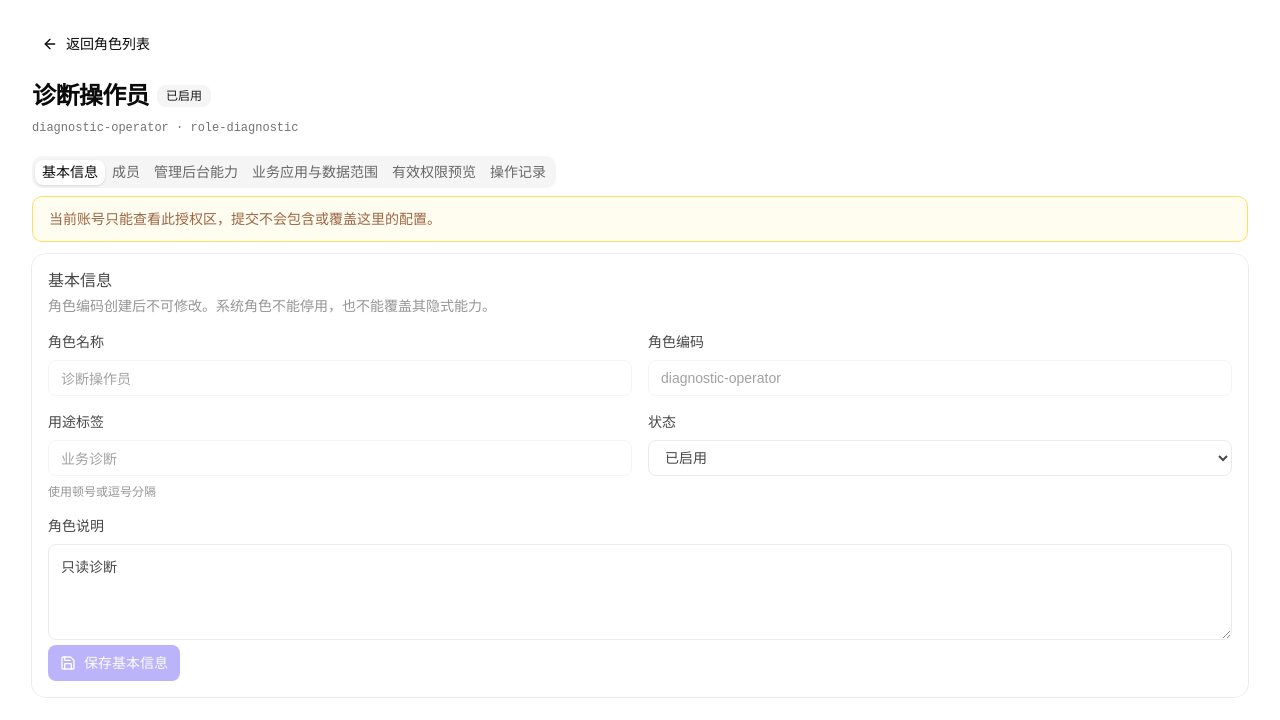
Test: 角色授权中心 › 权限模拟安全展示 application_scope_denied 决策
Expected: the heading "诊断操作员" is shown, [32,80,149,112]
Step 1. Click the tab "有效权限预览" → click(434, 172), box [385,160,483,184]
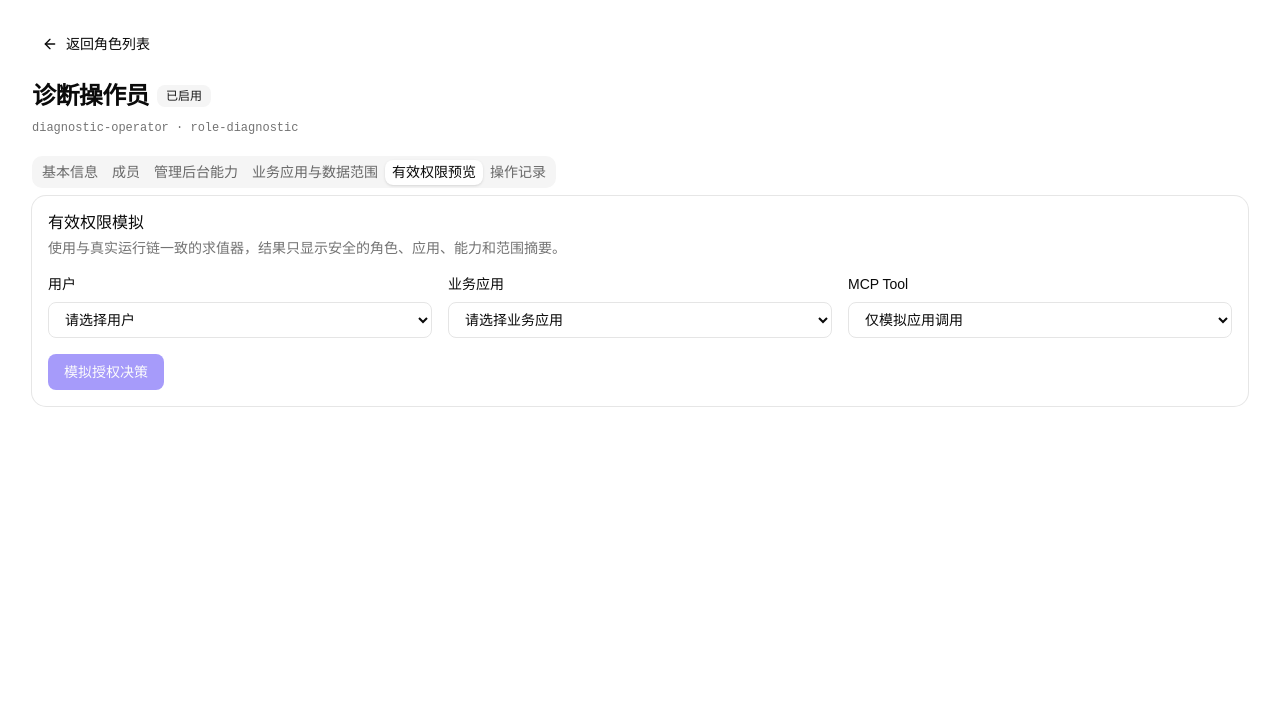
Step 2. Select "测试用户（test-user）" in the dropdown labelled "用户" → (240, 320), box [48,302,432,338]
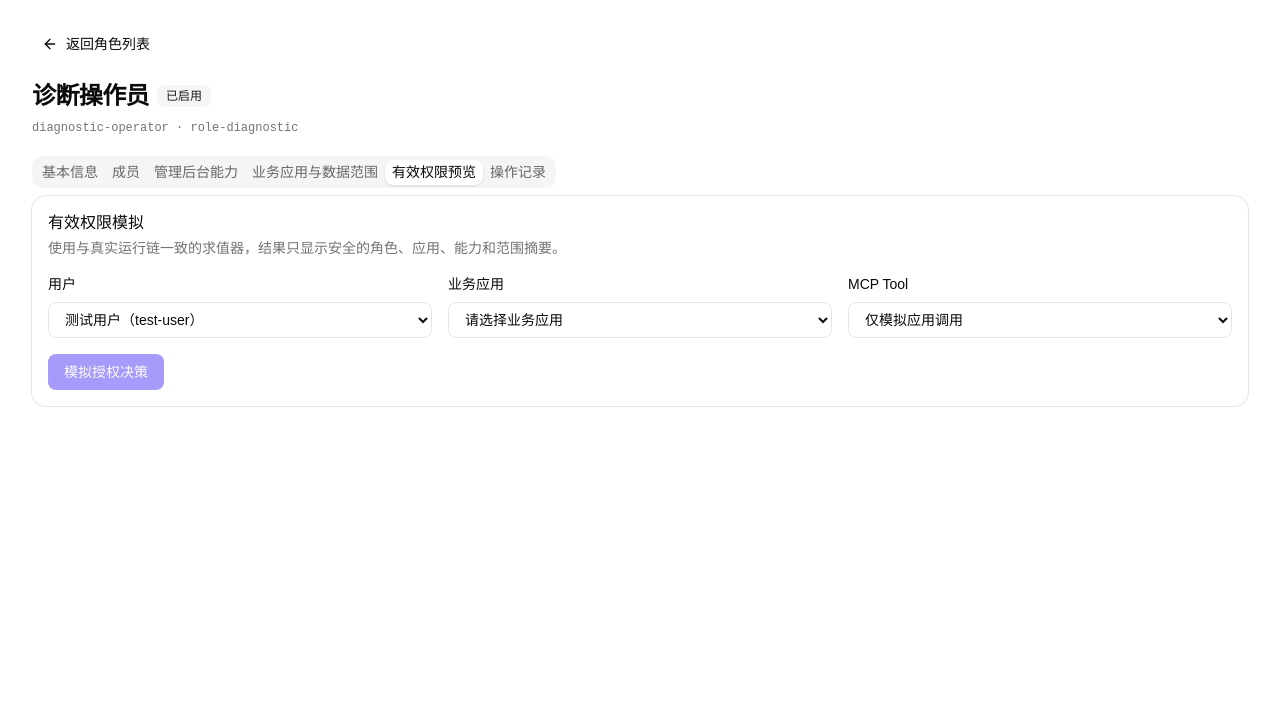
Step 3. Select "诊断应用" in the dropdown labelled "业务应用" → (640, 320), box [448,302,832,338]
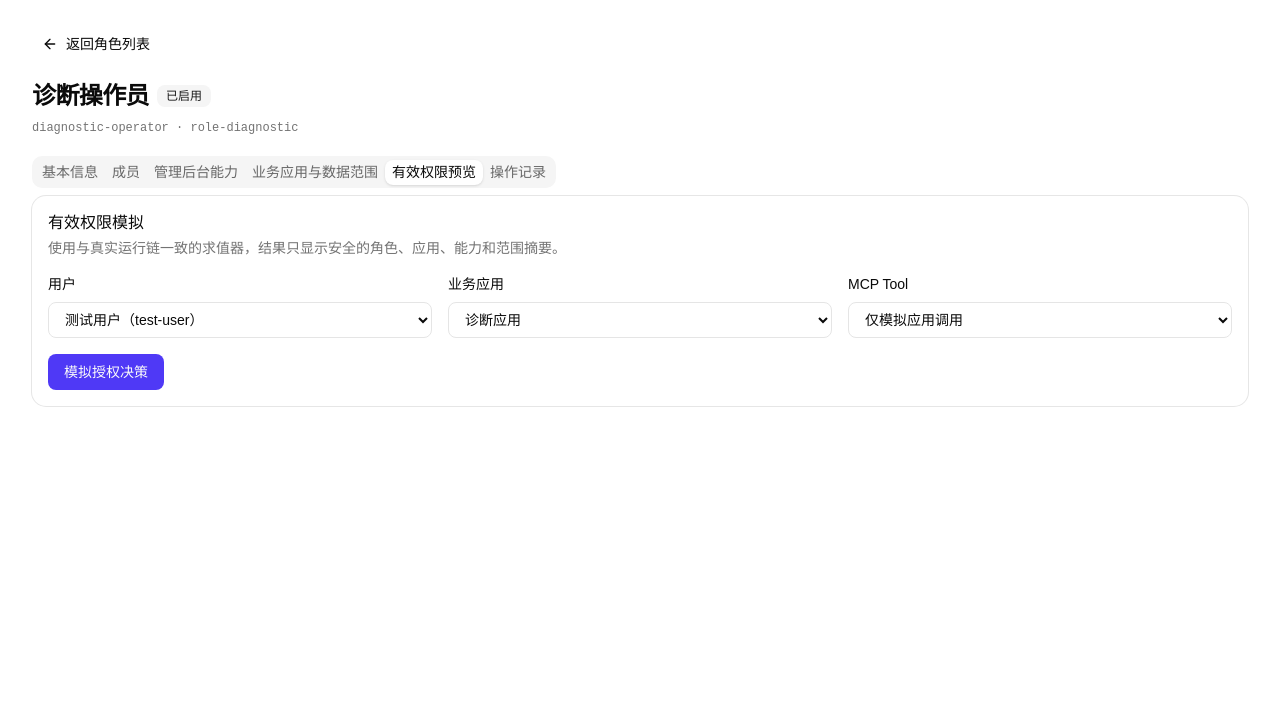
Step 4. Click the button "模拟授权决策" → click(106, 372), box [48,354,164,390]
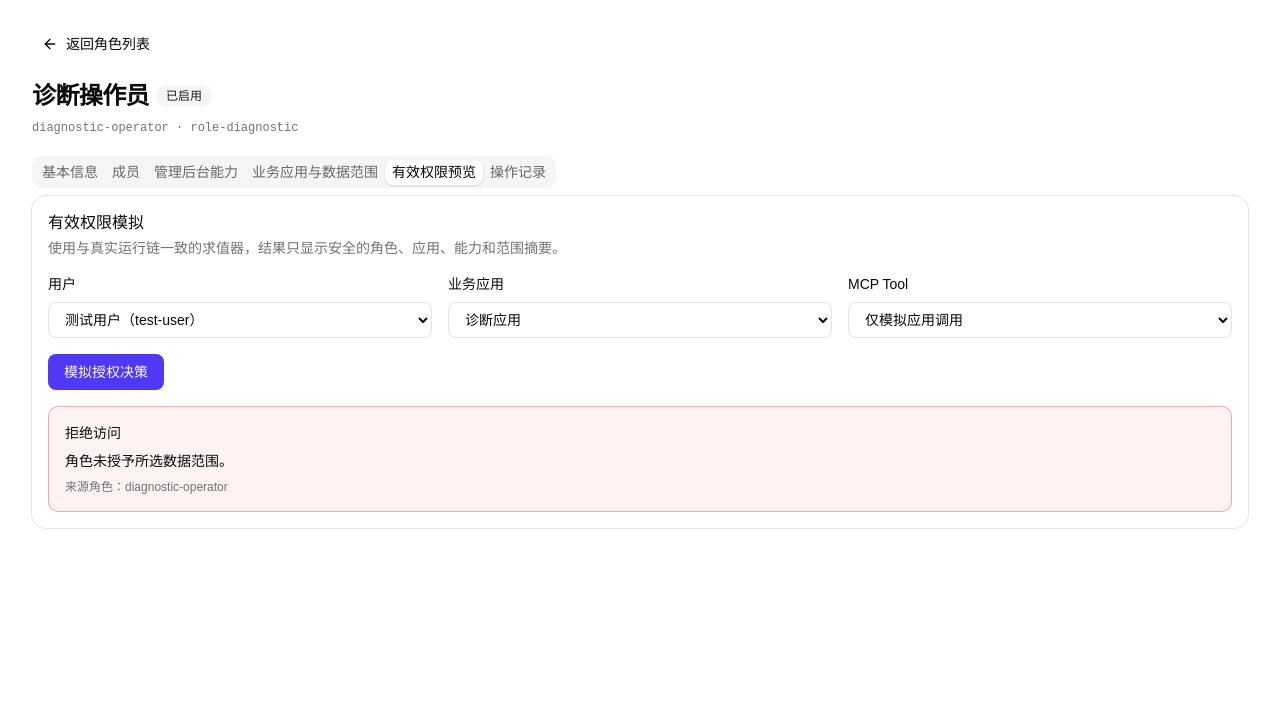
Expected: the text "角色未授予所选数据范围。" is shown, [65,453,233,469]
